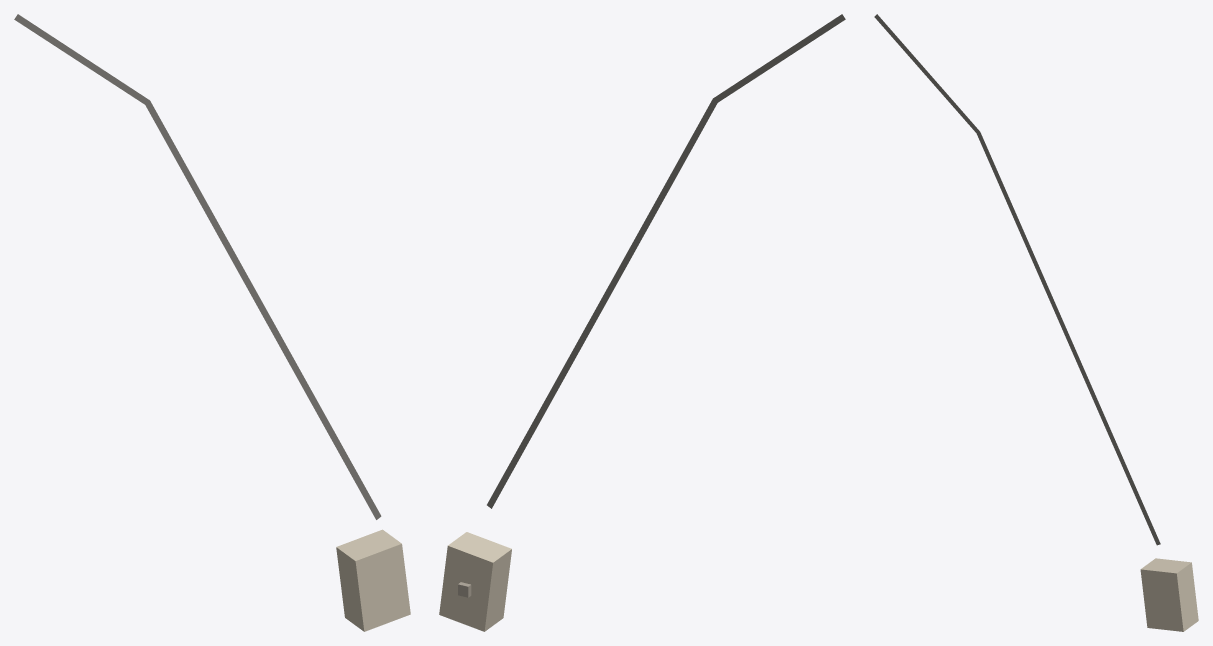
File: historic-palestine-01_17_3428_3118.glb
3 renders of one model, left to right at view 1: azimuth 30°, elevation 25°; view 2: azimuth 150°, elevation 25°; view 3: azimuth 330°, elevation 25°, orthographic. The views are drawn at different scales.
Parts seen in each view (by area): view 1: Building_, Road; view 2: Building_, Road; view 3: Building_, Road.
Part boxes in pixels (x1,y1,x2,y2): Building_: (336,529,410,631); Road: (14,14,381,519); Building_: (439,532,511,631); Road: (487,14,845,508); Building_: (1140,558,1198,631); Road: (874,14,1160,545).
Size of the model in its own units: 88.59 by 150 by 8.7.
